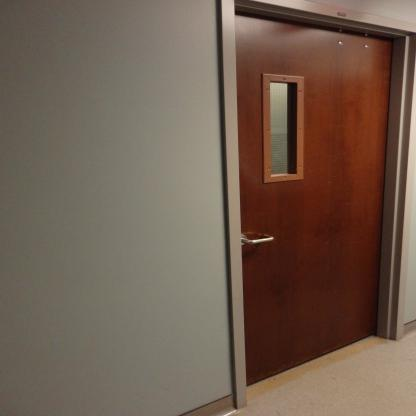door: (238, 22, 396, 392), (378, 323, 380, 326)
lever: (243, 234, 278, 246)
